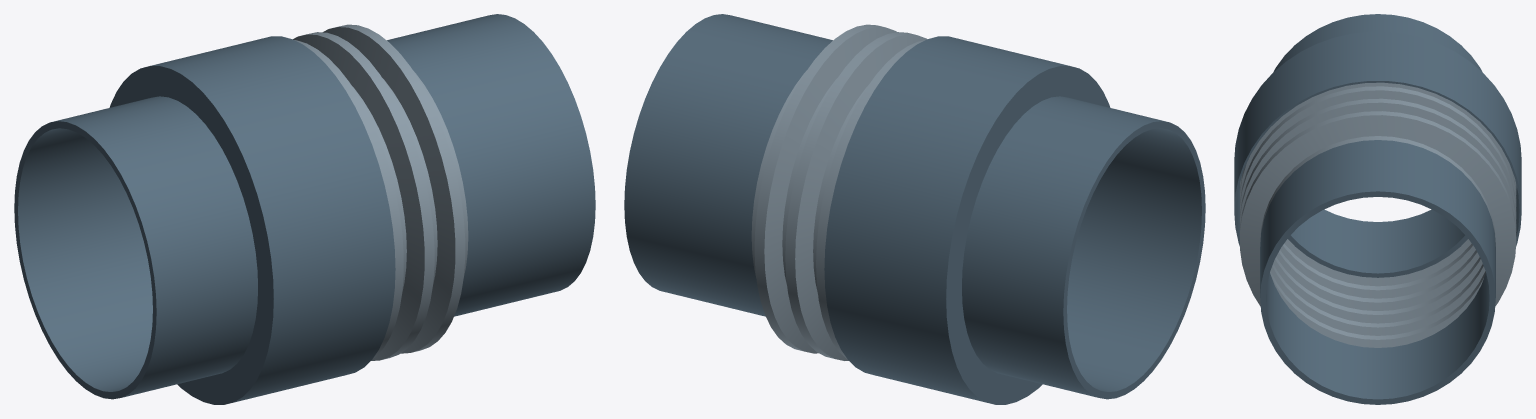
File: silf-dn200-L390-D219-k.glb
3 renders of one model, left to right at view 1: azimuth 30°, elevation 25°; view 2: azimuth 150°, elevation 25°; view 3: azimuth 270°, elevation 25°, orthographic. The views are drawn at different scales.
Parts seen in each view (by area): view 1: patrubok_1, osnovanie_kozhuh_1, patrubok_2, prokladka_silfon_1; view 2: patrubok_1, osnovanie_kozhuh_1, patrubok_2, prokladka_silfon_1; view 3: prokladka_silfon_1, patrubok_2, osnovanie_kozhuh_1, patrubok_1.
Boxes of the visible parts, x1,y1,x2,y2 form: patrubok_1: (14, 96, 257, 399); osnovanie_kozhuh_1: (109, 36, 395, 404); patrubok_2: (387, 14, 595, 316); prokladka_silfon_1: (293, 24, 468, 360); patrubok_1: (962, 96, 1205, 399); osnovanie_kozhuh_1: (824, 36, 1110, 404); patrubok_2: (624, 14, 832, 316); prokladka_silfon_1: (751, 24, 926, 360); prokladka_silfon_1: (1240, 82, 1516, 347); patrubok_2: (1260, 140, 1495, 404); osnovanie_kozhuh_1: (1234, 31, 1521, 246); patrubok_1: (1273, 14, 1482, 277).
Size of the model in its own units: 390 by 267 by 267.
